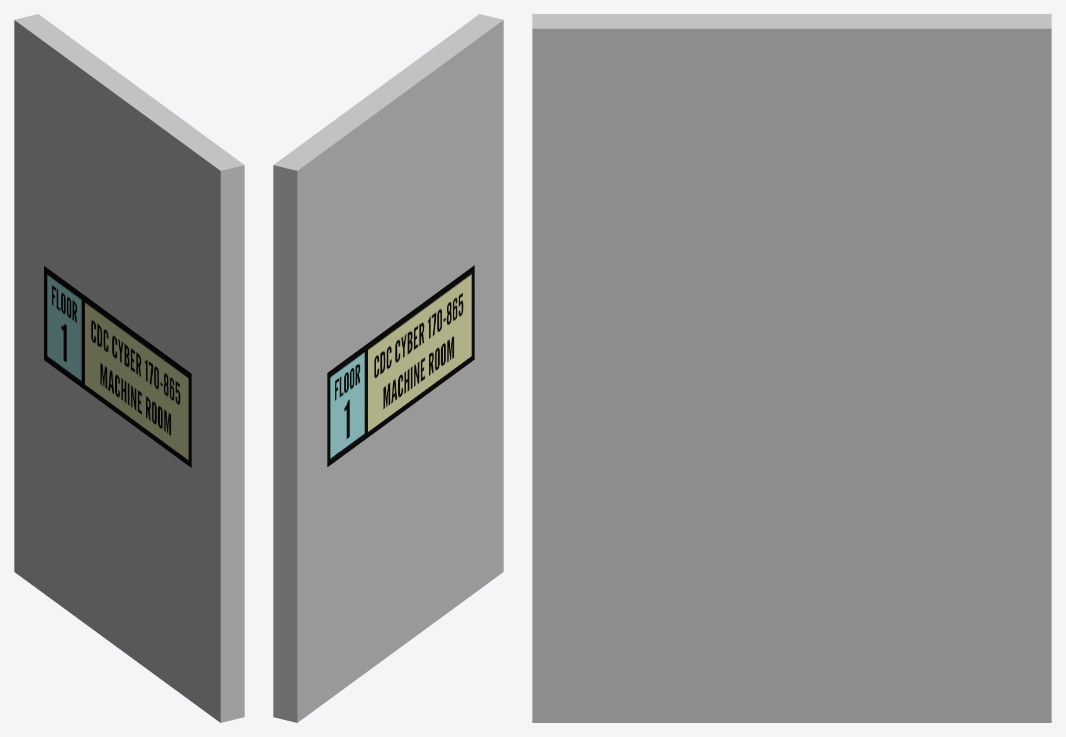
The model's file is a-opt-floor-1-sign.glb.
3 renders of one model, left to right at view 1: azimuth 30°, elevation 25°; view 2: azimuth 150°, elevation 25°; view 3: azimuth 270°, elevation 25°, orthographic. The views are drawn at different scales.
Parts seen in each view (by area): view 1: Floor-1-Sign; view 2: Floor-1-Sign; view 3: Floor-1-Sign.
Boxes of the visible parts, x1,y1,x2,y2 form: Floor-1-Sign: (14,14,244,722); Floor-1-Sign: (273,14,503,722); Floor-1-Sign: (532,14,1051,722).
Bounding box in the file's own units: 0.15 × 3.29 × 2.23.
2 materials, 1 textured.
